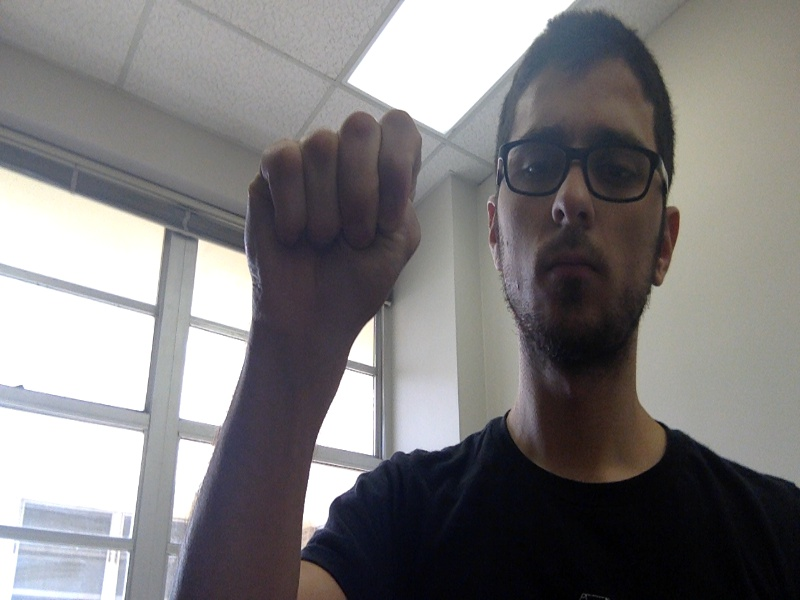0-hand: (243, 111, 420, 330)
